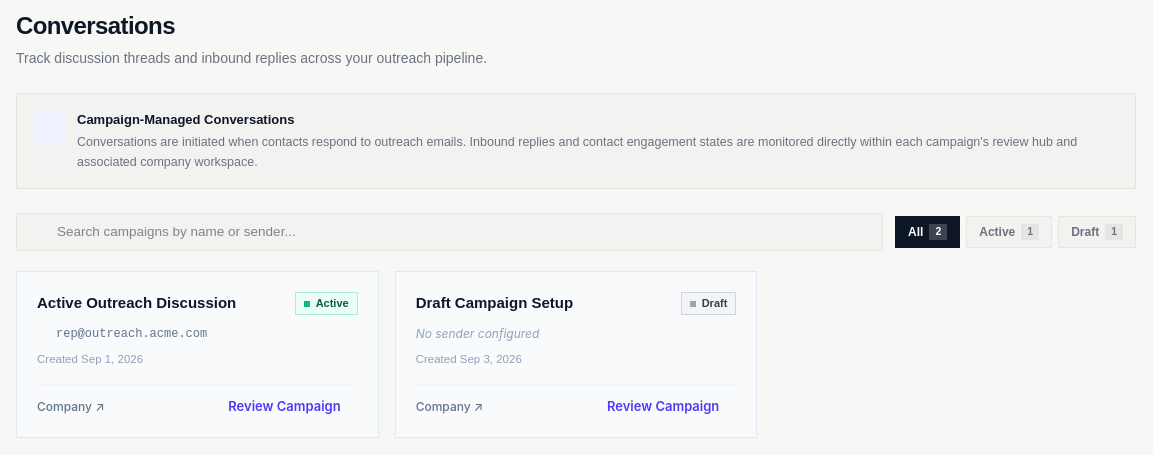
Test: ConversationsIndexComponent › filters conversations by search input
The image size is (1153, 455).
Expected: the heading "Active Outreach Discussion" is shown, left=37, top=292, right=236, bottom=315
Step 1. Type "Active" into the field with placeholder "Search campaigns by name or sender..." → (450, 232), box left=16, top=213, right=883, bottom=251
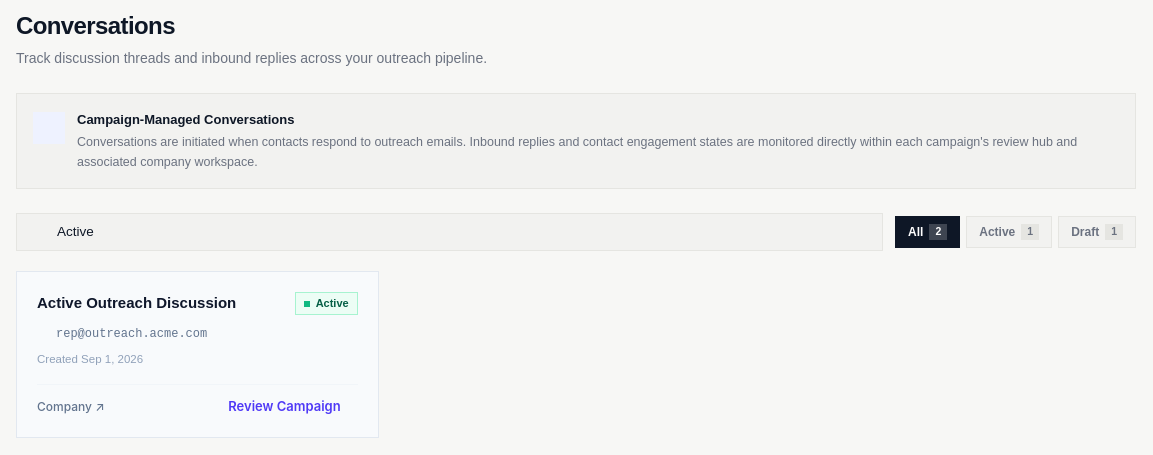
Expected: the heading "Active Outreach Discussion" is shown, left=37, top=292, right=236, bottom=315
Expected: the heading "Draft Campaign Setup" is gone
